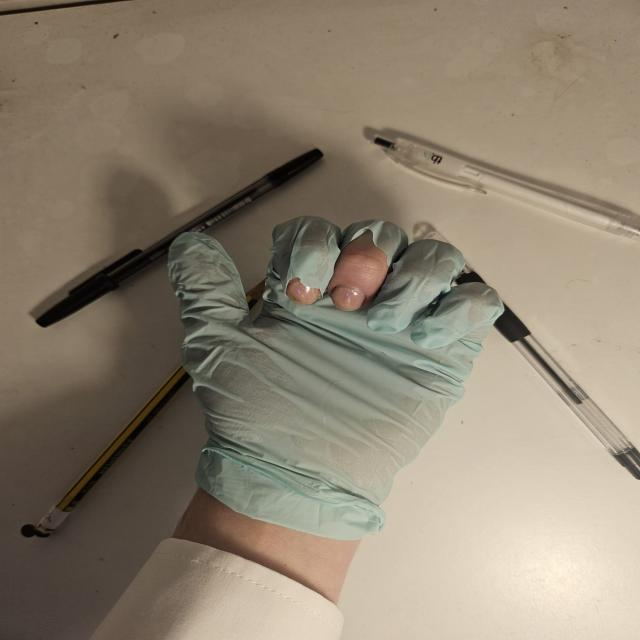gloves_damaged: (162, 213, 512, 542)
